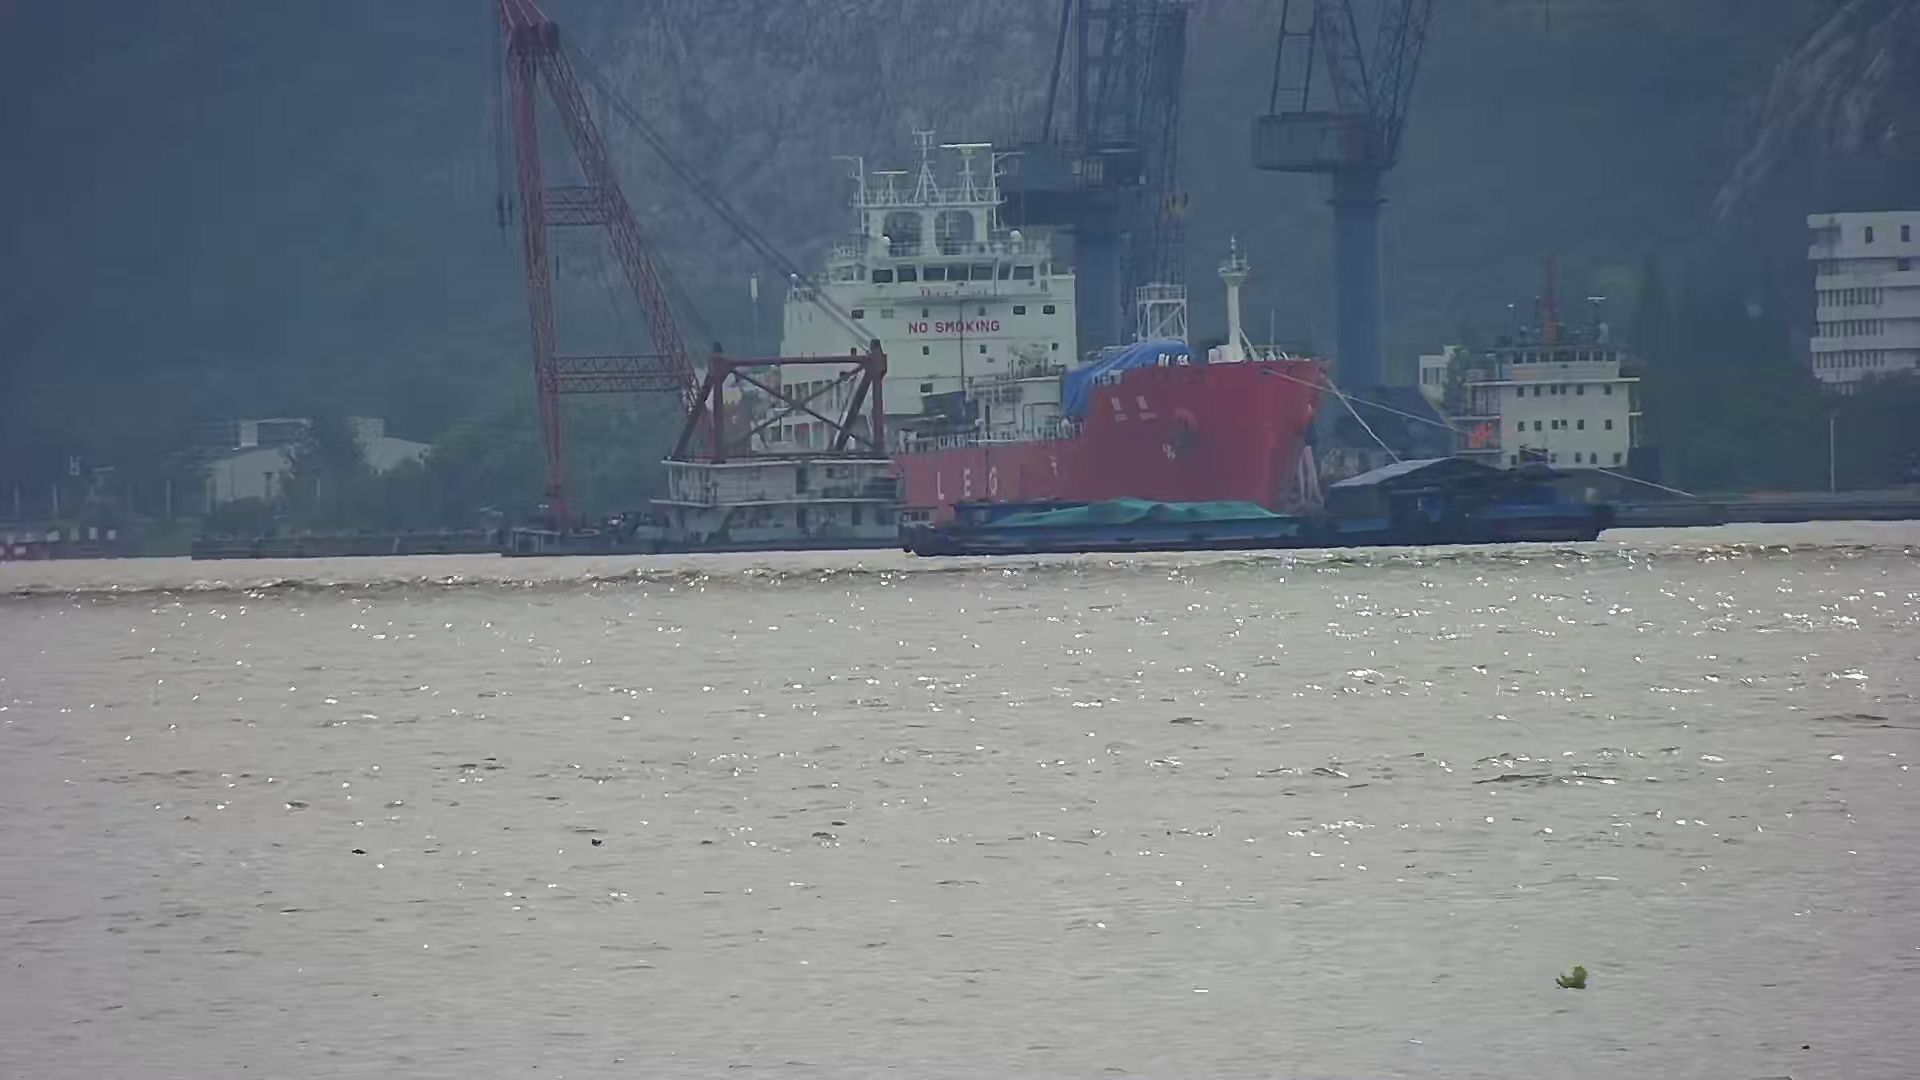boat: (895, 452, 1636, 553)
ship: (880, 315, 1350, 520)
